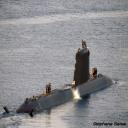submarine: (5, 50, 119, 117)
